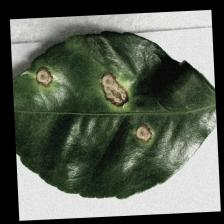canker: (32, 55, 163, 152)
